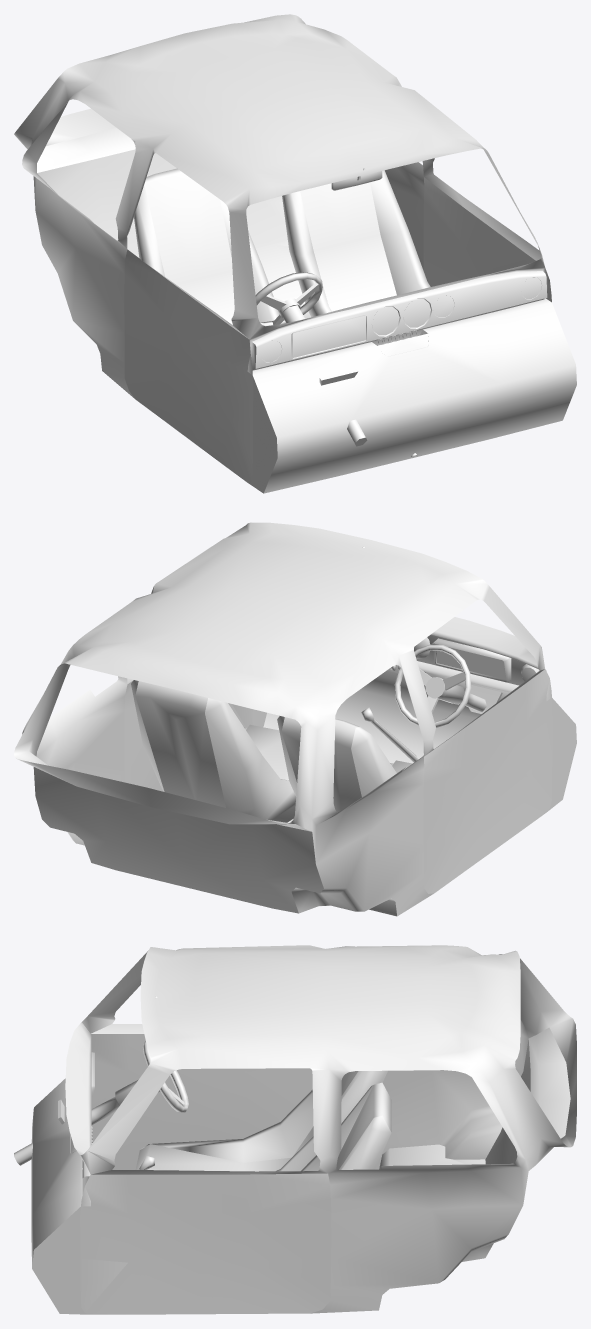
3 views of the same model, one above another, from view 1: azimuth 30°, elevation 25°; view 2: azimuth 150°, elevation 25°; view 3: azimuth 270°, elevation 25° (orthographic). The views are drawn at different scales.
Size of the model in its own units: 1.24 by 1.01 by 1.96.
1 material, 1 textured.
